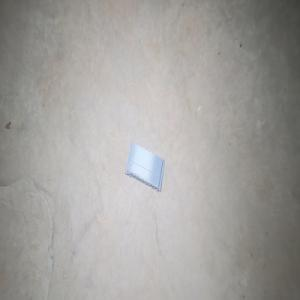PlasticPart: (124, 141, 165, 192)
